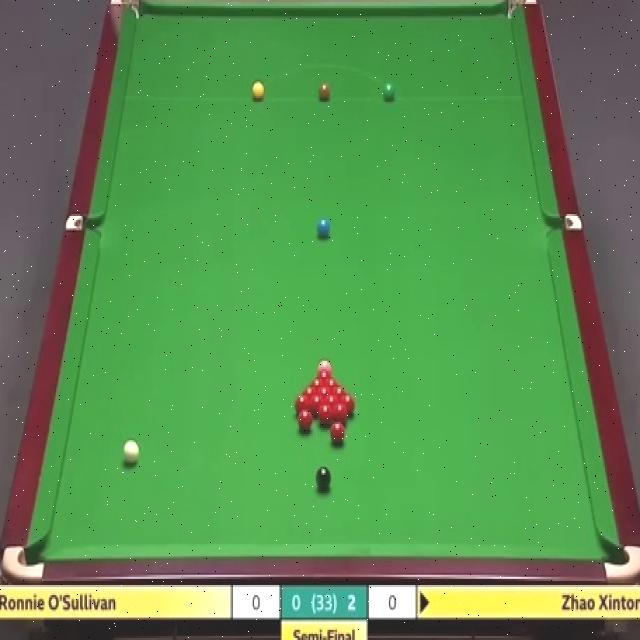black-ball: (315, 466, 333, 492)
blue-ball: (316, 216, 331, 242)
brown-ball: (318, 81, 331, 101)
green-ball: (383, 82, 396, 101)
pink-ball: (317, 359, 333, 373)
red-ball: (330, 422, 346, 446), (333, 402, 348, 425), (310, 394, 325, 417), (294, 394, 309, 414), (319, 406, 333, 427), (341, 396, 355, 417), (298, 410, 312, 430), (323, 376, 337, 396), (318, 387, 332, 406), (310, 377, 324, 394), (332, 385, 345, 403), (316, 371, 332, 384), (303, 387, 317, 401)
white-ball: (122, 438, 141, 467)
yellow-ball: (251, 81, 265, 101)
